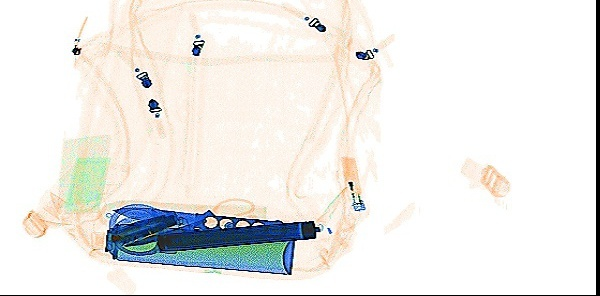handcuffs: (103, 201, 190, 251)
knife: (108, 202, 282, 227), (112, 210, 177, 240)
lighter: (338, 153, 364, 212)
pressure: (87, 217, 295, 275)
scissors: (121, 193, 258, 246)
